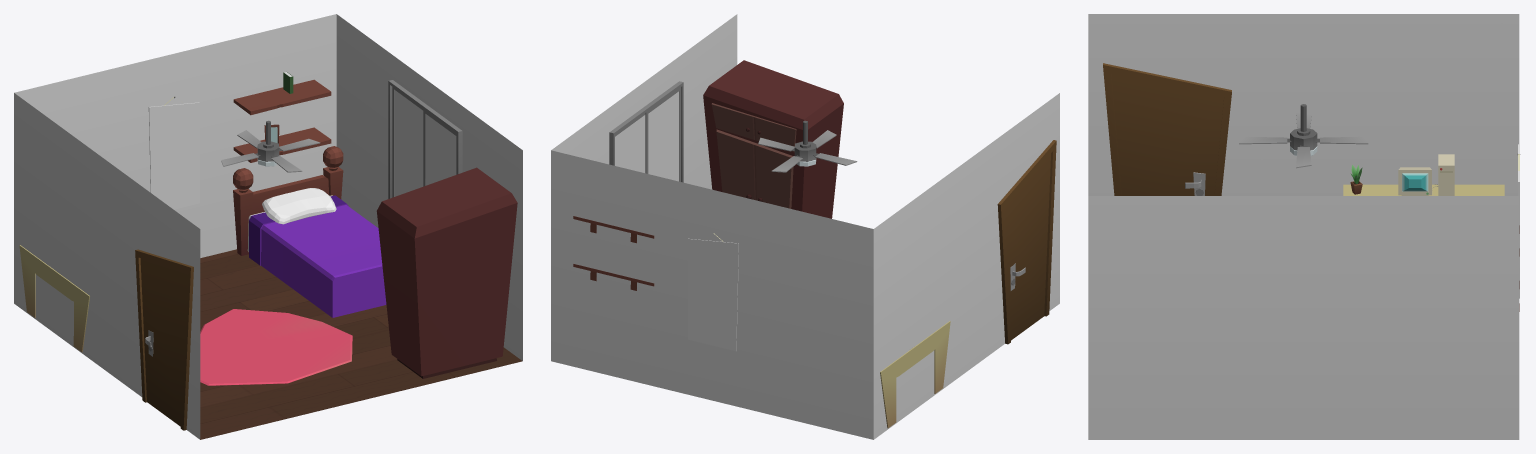
File: raytracing.fbx
The picture shows the model from 3 angles, left to right: view 1: azimuth 30°, elevation 25°; view 2: azimuth 150°, elevation 25°; view 3: azimuth 270°, elevation 25°; orthographic projection. The views are drawn at different scales.
Parts seen in each view (by area): view 1: Paredes, Armário, Cama, Tapete, Porta, Espelho, Vidros, Mesa, Janela, Prateleira.001, Ventilador de teto, Prateleira; view 2: Paredes, Armário, Porta, Espelho, Vidros, Mesa, Janela, Ventilador de teto; view 3: Paredes, Porta, Ventilador de teto, PC, Mesa.
Part boxes in pixels (x1,y1,x2,y2): Paredes: [14, 14, 522, 439]; Armário: [376, 167, 517, 378]; Cama: [233, 146, 386, 317]; Tapete: [200, 309, 352, 385]; Porta: [135, 249, 193, 430]; Espelho: [148, 102, 199, 209]; Vidros: [394, 90, 456, 196]; Mesa: [19, 245, 89, 352]; Janela: [388, 80, 462, 198]; Prateleira.001: [233, 79, 331, 115]; Ventilador de teto: [221, 120, 320, 172]; Prateleira: [233, 127, 331, 162]; Paredes: [551, 14, 1059, 439]; Armário: [703, 60, 843, 218]; Porta: [997, 140, 1056, 344]; Espelho: [688, 238, 738, 351]; Vidros: [615, 91, 678, 181]; Mesa: [880, 321, 950, 428]; Janela: [609, 81, 683, 182]; Ventilador de teto: [758, 120, 857, 172]; Paredes: [1088, 14, 1519, 439]; Porta: [1103, 63, 1231, 195]; Ventilador de teto: [1239, 104, 1368, 168]; PC: [1398, 154, 1454, 195]; Mesa: [1343, 184, 1504, 195].
Size of the model in its own units: 410 by 251 by 402.
